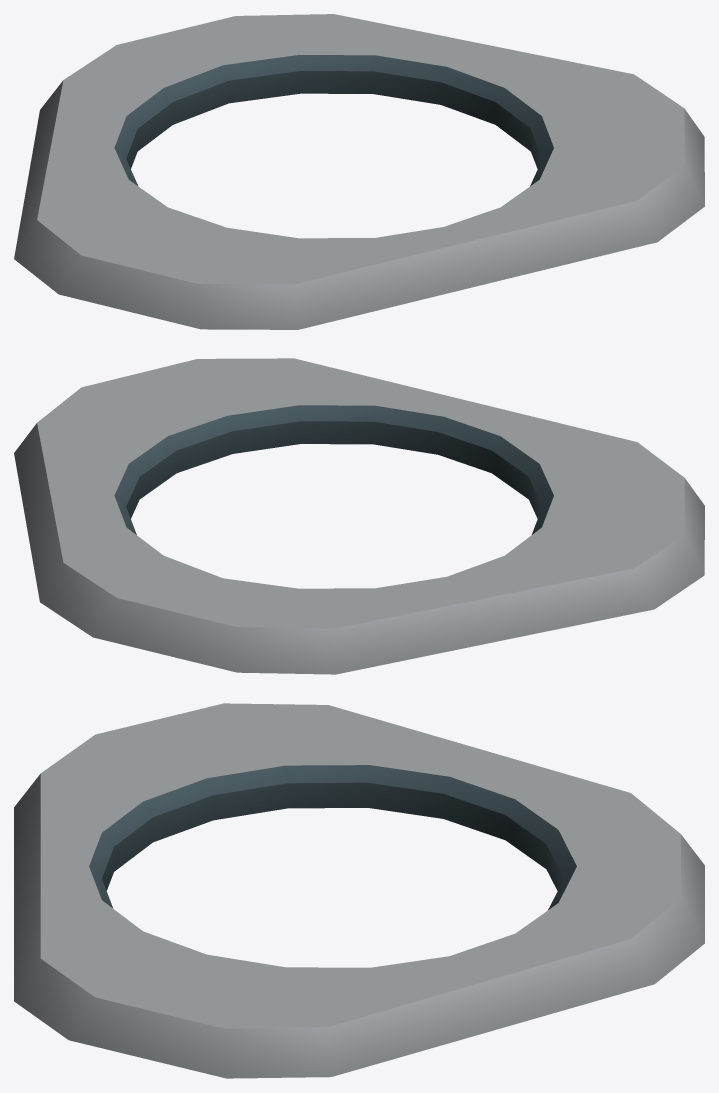
Rendered from Hatch_006.fbx.
3 renders of one model, top to bottom at view 1: azimuth 30°, elevation 25°; view 2: azimuth 150°, elevation 25°; view 3: azimuth 270°, elevation 25°, orthographic. The views are drawn at different scales.
Visible parts, largest first — view 1: Hatch_006; view 2: Hatch_006; view 3: Hatch_006.
Part boxes in pixels (bbox=[...]): Hatch_006: bbox=[14, 14, 704, 329]; Hatch_006: bbox=[14, 358, 704, 674]; Hatch_006: bbox=[14, 703, 704, 1078].
Bounding box in the file's own units: 134 × 112 × 6.91.
